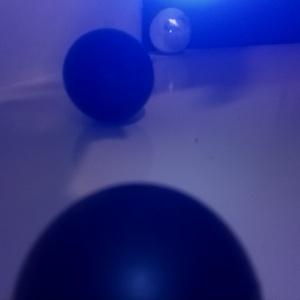dead_ball: (12, 182, 265, 300), (62, 28, 154, 122)
